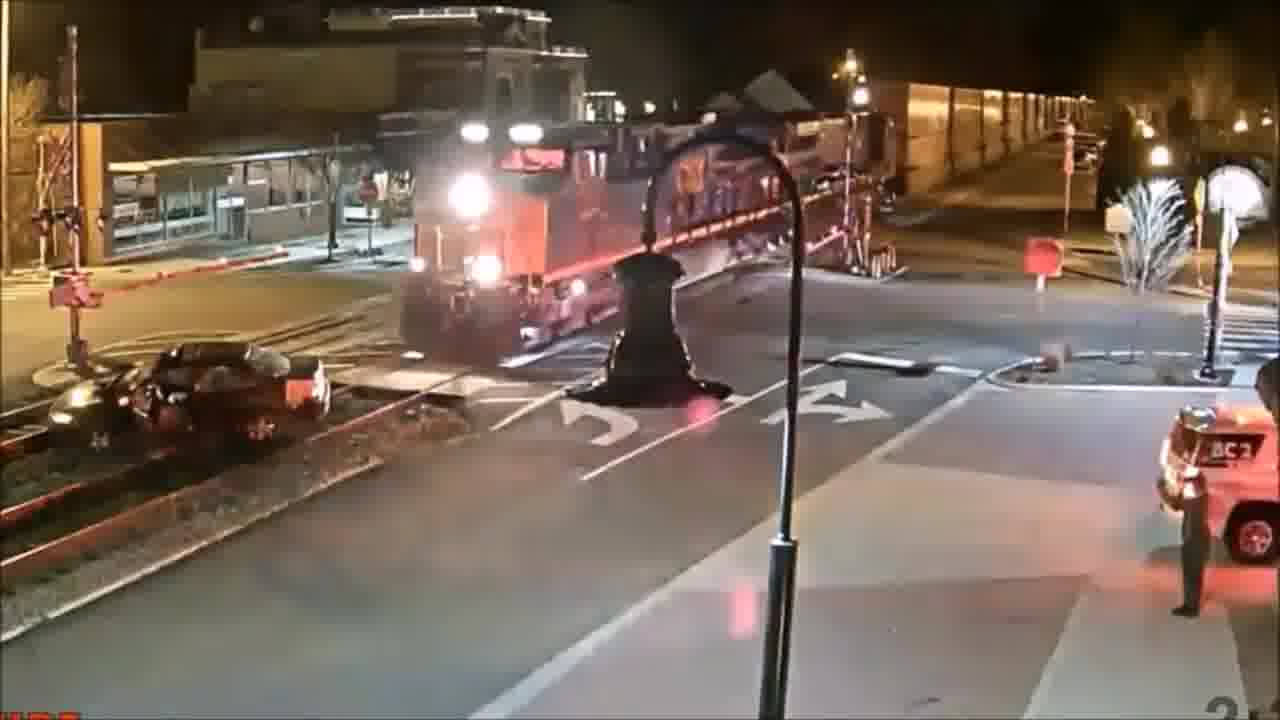crossing railway track: (40, 331, 347, 471)
